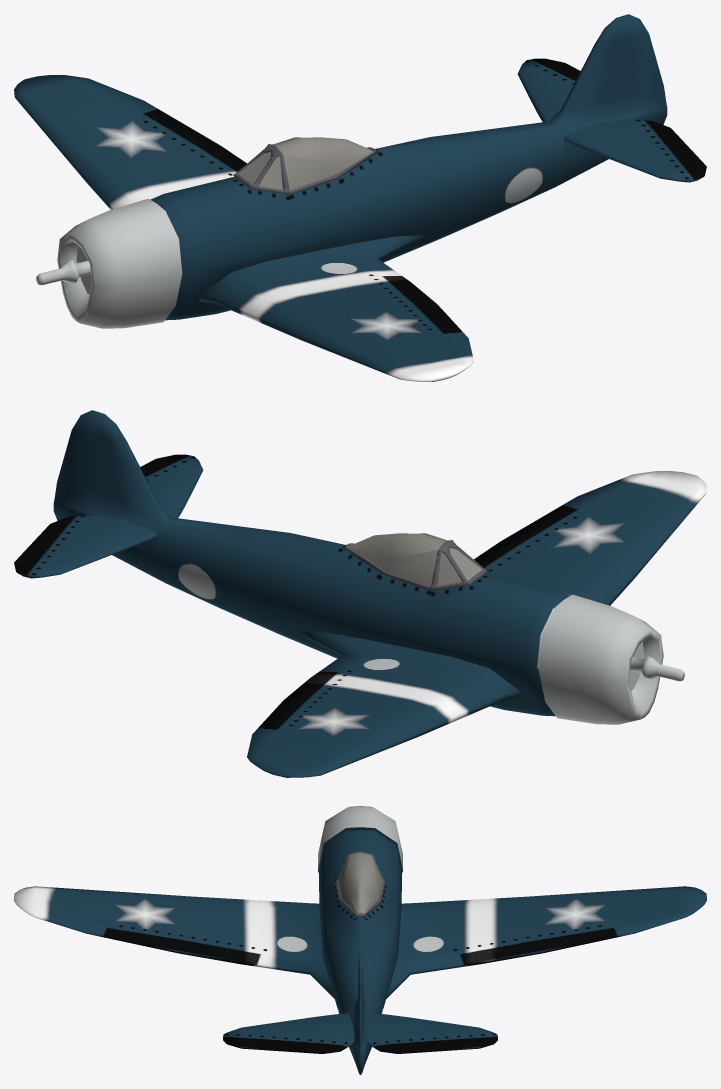
The model's file is old_fighter_plane.glb.
The picture shows the model from 3 angles, top to bottom: view 1: azimuth 30°, elevation 25°; view 2: azimuth 150°, elevation 25°; view 3: azimuth 270°, elevation 25°; orthographic projection. The views are drawn at different scales.
Visible parts, largest first — view 1: P47, Canopy (×2); view 2: P47, Canopy (×2); view 3: P47, Canopy (×2).
Boxes of the visible parts, x1,y1,x2,y2 form: P47: (14,14,706,381); Canopy (×2): (233,137,376,194); P47: (14,410,706,777); Canopy (×2): (344,533,487,590); P47: (14,806,706,1074); Canopy (×2): (335,851,385,916).
Bounding box in the file's own units: 1299 × 380 × 1472.
3 materials, 3 textured.
